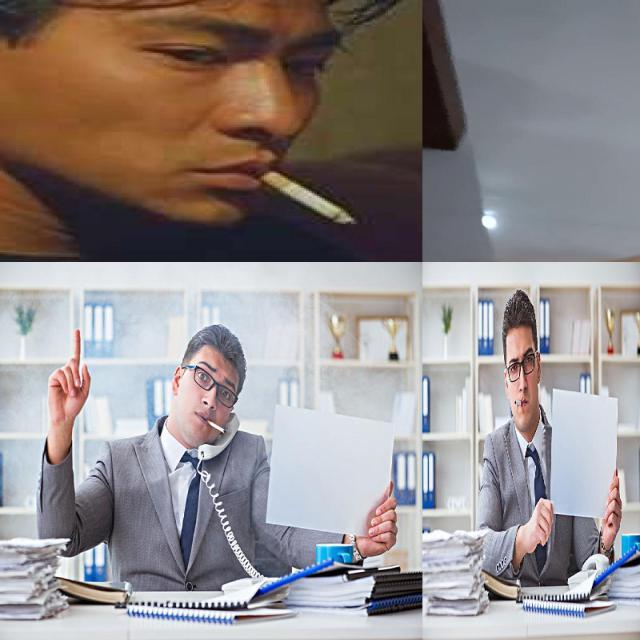smoking: (246, 161, 356, 226), (206, 419, 227, 435), (513, 392, 524, 412)
